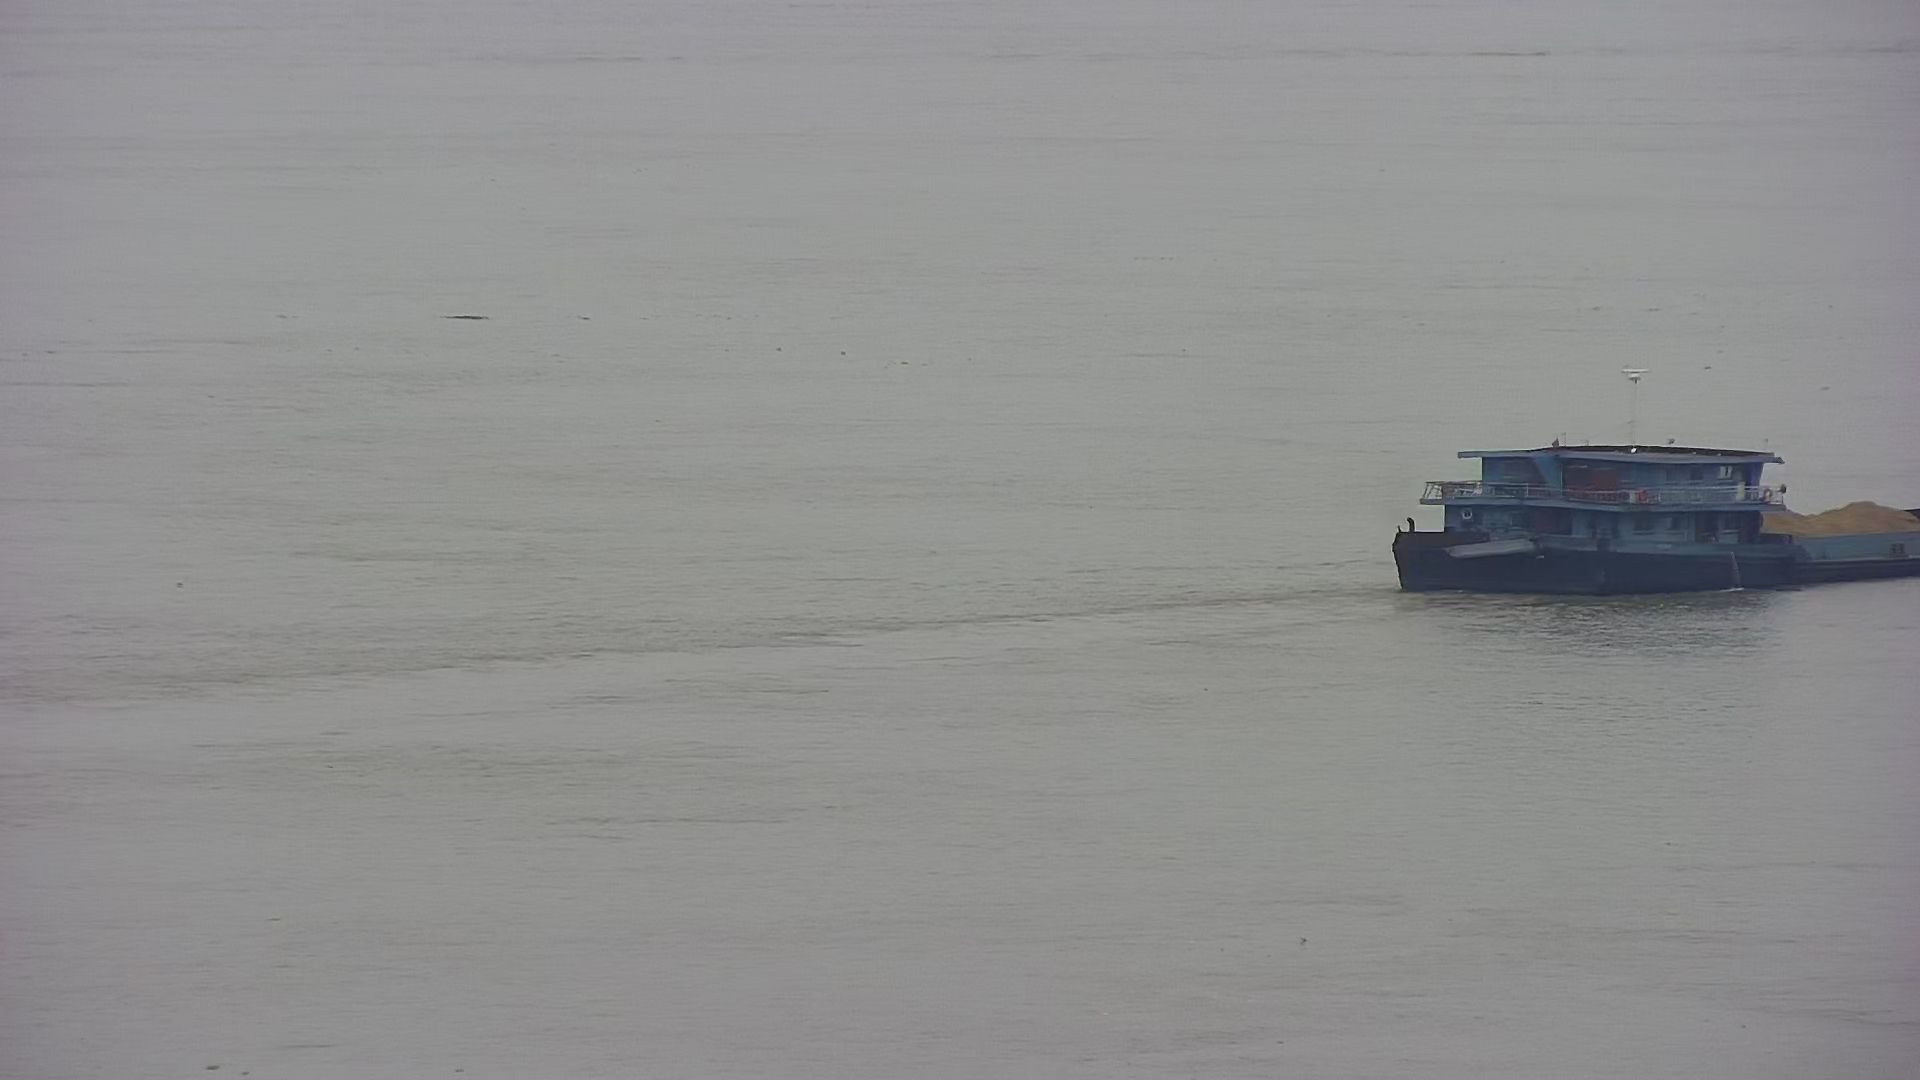ship: (1389, 439, 1920, 589)
